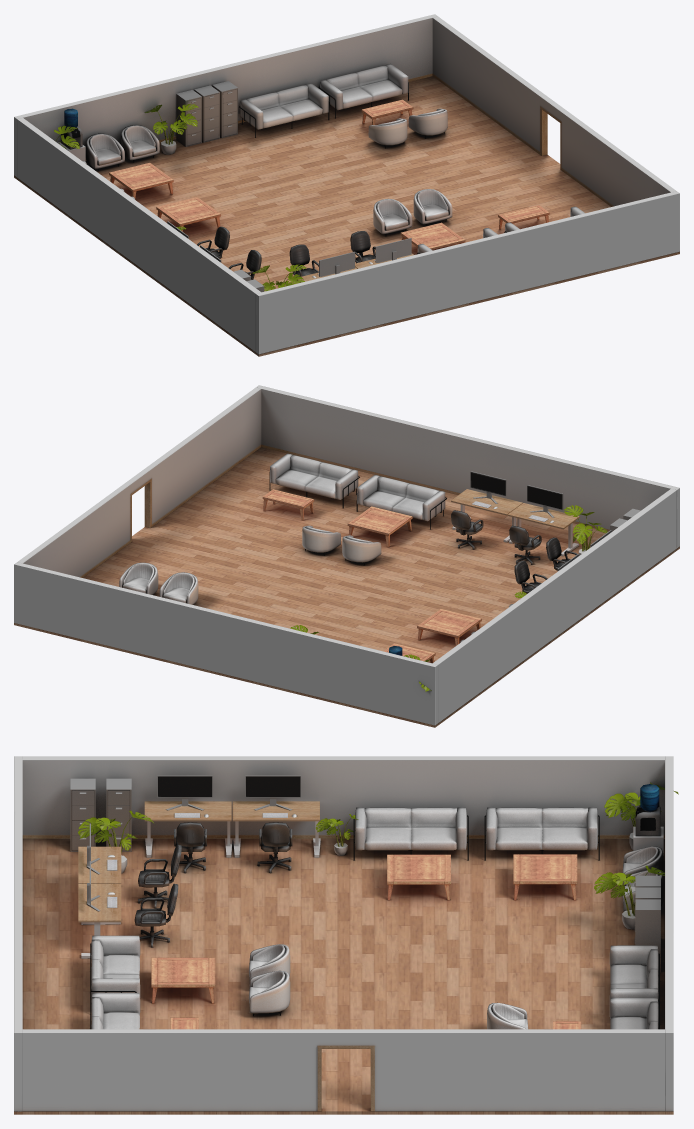
The model's file is room-first.glb.
The picture shows the model from 3 angles, top to bottom: view 1: azimuth 30°, elevation 25°; view 2: azimuth 150°, elevation 25°; view 3: azimuth 270°, elevation 25°; orthographic projection. The views are drawn at different scales.
Visible parts, largest first — view 1: first room Walls, first room floor, primeira sala moveis; view 2: first room Walls, first room floor, primeira sala moveis; view 3: first room floor, first room Walls, primeira sala moveis.
Boxes of the visible parts, x1,y1,x2,y2 form: first room Walls: (14, 14, 679, 354); first room floor: (14, 76, 679, 356); primeira sala moveis: (54, 63, 584, 292); first room Walls: (14, 385, 679, 725); first room floor: (14, 447, 679, 727); primeira sala moveis: (119, 453, 640, 691); first room floor: (14, 838, 673, 1114); first room Walls: (14, 756, 673, 1111); primeira sala moveis: (70, 775, 678, 1029).
Size of what is drawn, in the model's own units: 30.31 by 4.19 by 30.82.
Materials: 3 (3 with a texture image).
